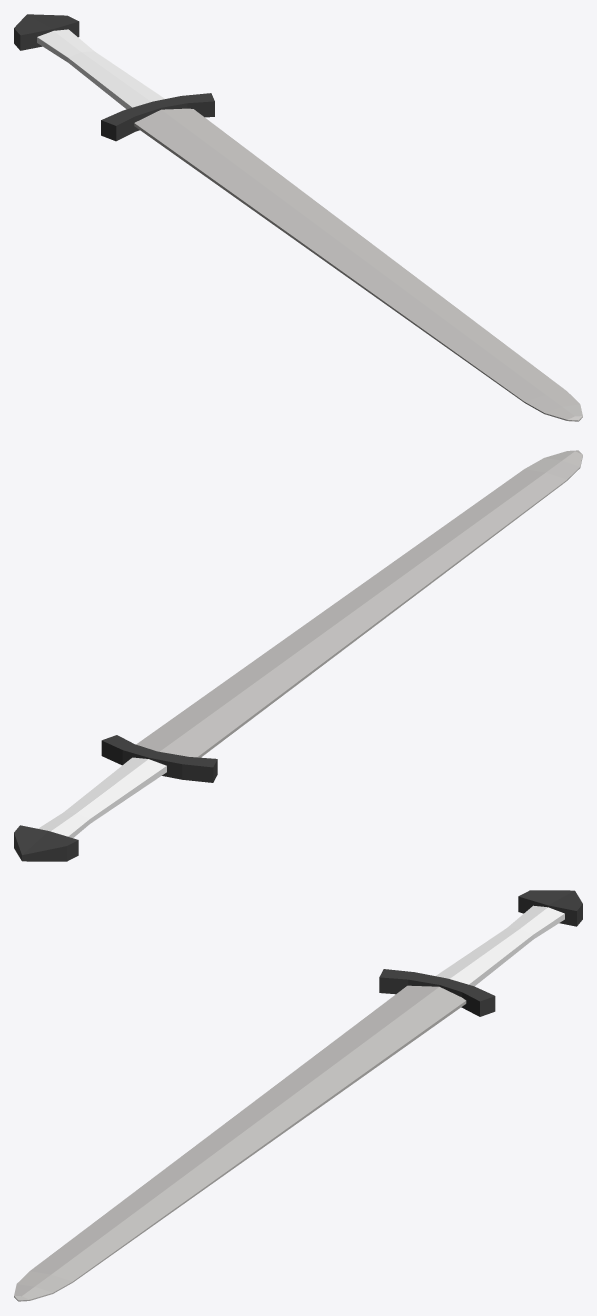
The model's file is Viking_M_Sword.fbx.
3 views of the same model, one above another, from view 1: azimuth 30°, elevation 25°; view 2: azimuth 150°, elevation 25°; view 3: azimuth 330°, elevation 25° (orthographic).
Visible parts, largest first — view 1: Viking_M_Sword; view 2: Viking_M_Sword; view 3: Viking_M_Sword.
Boxes of the visible parts, x1,y1,x2,y2 form: Viking_M_Sword: [14, 14, 582, 421]; Viking_M_Sword: [14, 450, 582, 861]; Viking_M_Sword: [14, 890, 582, 1301].
Bounding box in the file's own units: 8.63 × 1.15 × 74.61.
